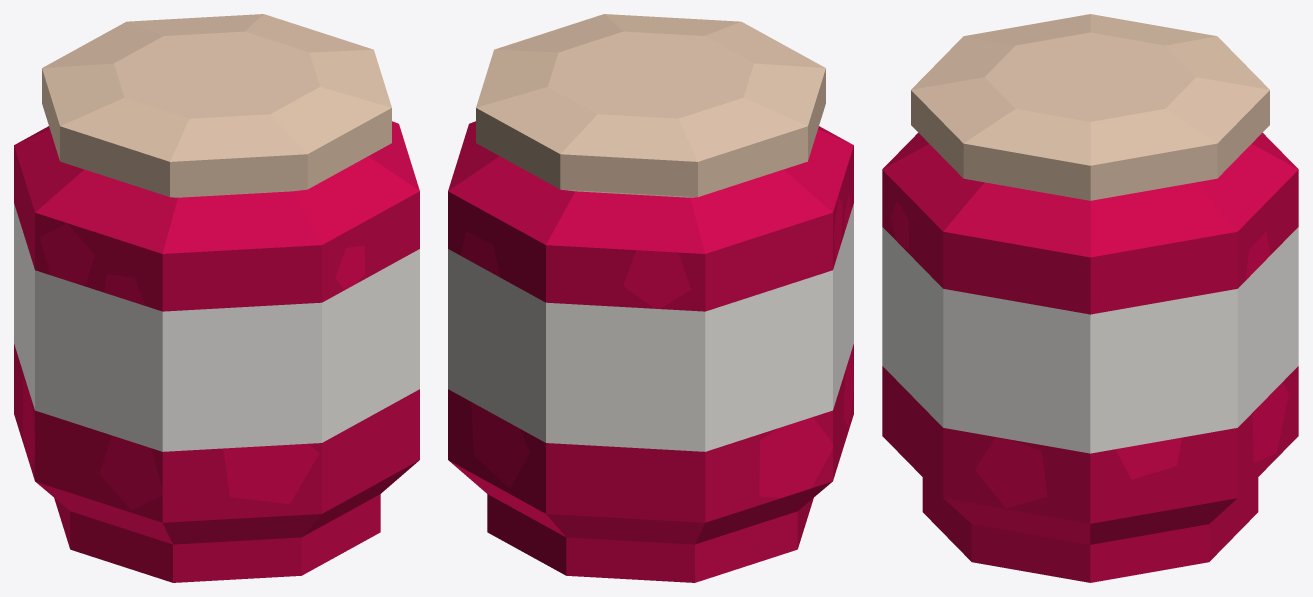
The model's file is Jam.fbx.
The picture shows the model from 3 angles, left to right: view 1: azimuth 30°, elevation 25°; view 2: azimuth 150°, elevation 25°; view 3: azimuth 270°, elevation 25°; orthographic projection.
Parts seen in each view (by area): view 1: Jam; view 2: Jam; view 3: Jam.
Boxes of the visible parts, x1,y1,x2,y2 form: Jam: [14, 14, 419, 582]; Jam: [448, 14, 853, 582]; Jam: [882, 14, 1298, 582].
Size of the model in its own units: 0.0992 by 0.1142 by 0.0992.
